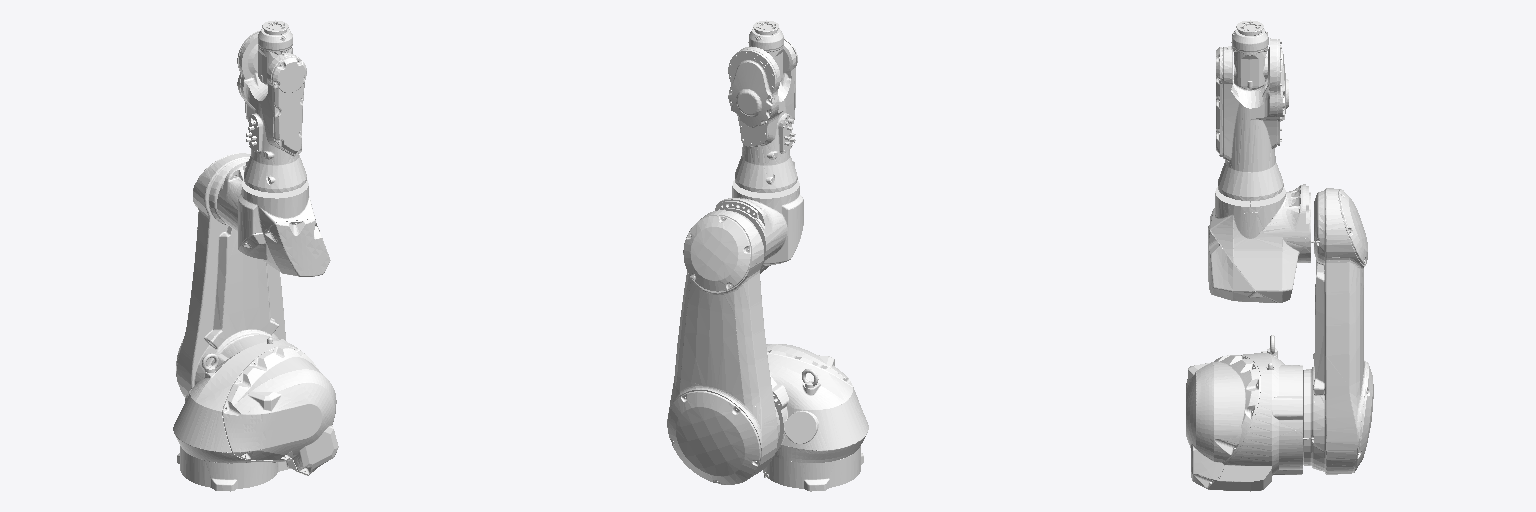
robot.urdf — stab:
<?xml version="1.0" encoding="utf-8"?>
<!-- This URDF was automatically created by SolidWorks to URDF Exporter! Originally created by [author] ([email redacted]) 
     Commit Version: 1.5.1-0-g916b5db  Build Version: 1.5.7152.31018
     For more information, please see http://wiki.ros.org/sw_urdf_exporter -->
<robot
  name="stab">
  <link
    name="base_link">
    <inertial>
      <origin
        xyz="-0.267622237083787 0.0200000000000051 0.200000000000011"
        rpy="0 0 0" />
      <mass
        value="4.39348226818734E-05" />
      <inertia
        ixx="3.28704519934978E-11"
        ixy="-8.15804703511327E-22"
        ixz="1.61286938235907E-21"
        iyy="3.30462552559842E-10"
        iyz="-3.68952400699453E-27"
        izz="3.30462552559842E-10" />
    </inertial>
    <visual>
      <origin
        xyz="0 0 0"
        rpy="0 0 0" />
      <geometry>
        <mesh
          filename="package://robot_description/meshes/base_link.STL" />
      </geometry>
      <material
        name="">
        <color
          rgba="1 1 1 1" />
      </material>
    </visual>
    <collision>
      <origin
        xyz="0 0 0"
        rpy="0 0 0" />
      <geometry>
        <mesh
          filename="package://robot_description/meshes/base_link.STL" />
      </geometry>
    </collision>
  </link>
  <link
    name="Link1">
    <inertial>
      <origin
        xyz="0.078312 0.0074766 0.3645"
        rpy="0 0 0" />
      <mass
        value="0.013314" />
      <inertia
        ixx="6.1721E-07"
        ixy="4.3741E-08"
        ixz="-2.209E-08"
        iyy="4.6562E-07"
        iyz="8.2426E-08"
        izz="6.8481E-07" />
    </inertial>
    <visual>
      <origin
        xyz="0 0 0"
        rpy="0 0 0" />
      <geometry>
        <mesh
          filename="package://robot_description/meshes/Link1.STL" />
      </geometry>
      <material
        name="">
        <color
          rgba="1 1 1 1" />
      </material>
    </visual>
    <collision>
      <origin
        xyz="0 0 0"
        rpy="0 0 0" />
      <geometry>
        <mesh
          filename="package://robot_description/meshes/Link1.STL" />
      </geometry>
    </collision>
  </link>
  <joint
    name="joint1"
    type="revolute">
    <origin
      xyz="0 0 0.347"
      rpy="0 0 0" />
    <parent
      link="base_link" />
    <child
      link="Link1" />
    <axis
      xyz="0 0 -1" />
    <limit
      lower="-3.14"
      upper="3.14"
      effort="100000"
      velocity="2" />
  </joint>
  <link
    name="Link2">
    <inertial>
      <origin
        xyz="746890000000 988550000000 175200000000"
        rpy="0 0 0" />
      <mass
        value="1.0511E+23" />
      <inertia
        ixx="5.5892E+45"
        ixy="-4.0943E+45"
        ixz="-7.2564E+44"
        iyy="3.2636E+45"
        iyz="-9.6042E+44"
        izz="8.5124E+45" />
    </inertial>
    <visual>
      <origin
        xyz="0 0 0"
        rpy="0 0 0" />
      <geometry>
        <mesh
          filename="package://robot_description/meshes/Link2.STL" />
      </geometry>
      <material
        name="">
        <color
          rgba="1 1 1 1" />
      </material>
    </visual>
    <collision>
      <origin
        xyz="0 0 0"
        rpy="0 0 0" />
      <geometry>
        <mesh
          filename="package://robot_description/meshes/Link2.STL" />
      </geometry>
    </collision>
  </link>
  <joint
    name="joint2"
    type="revolute">
    <origin
      xyz="0.24994 0.239 0.29844"
      rpy="-1.5708 0 0" />
    <parent
      link="Link1" />
    <child
      link="Link2" />
    <axis
      xyz="0 0 -1" />
    <limit
      lower="-2.0071"
      upper="2.094"
      effort="100000"
      velocity="2" />
  </joint>
  <link
    name="Link3">
    <inertial>
      <origin
        xyz="0.0295766895166405 -0.0440500878929433 0.244531620234894"
        rpy="0 0 0" />
      <mass
        value="54.8497239391138" />
      <inertia
        ixx="1.57769910645969"
        ixy="0.224580870519169"
        ixz="-0.0606303870690732"
        iyy="1.27119892970626"
        iyz="0.0789769466616716"
        izz="1.28753475738862" />
    </inertial>
    <visual>
      <origin
        xyz="0 0 0"
        rpy="0 0 0" />
      <geometry>
        <mesh
          filename="package://robot_description/meshes/Link3.STL" />
      </geometry>
      <material
        name="">
        <color
          rgba="1 1 1 1" />
      </material>
    </visual>
    <collision>
      <origin
        xyz="0 0 0"
        rpy="0 0 0" />
      <geometry>
        <mesh
          filename="package://robot_description/meshes/Link3.STL" />
      </geometry>
    </collision>
  </link>
  <joint
    name="joint3"
    type="revolute">
    <origin
      xyz="8.587E-05 -0.95252 0.04995"
      rpy="-3.1416 0 0" />
    <parent
      link="Link2" />
    <child
      link="Link3" />
    <axis
      xyz="0 0 -1" />
    <limit
      lower="-2.443"
      upper="2.53"
      effort="100000"
      velocity="2" />
  </joint>
  <link
    name="Link4">
    <inertial>
      <origin
        xyz="-0.0017742167367687 0.00510255610352519 0.324104531535401"
        rpy="0 0 0" />
      <mass
        value="32.6033860752865" />
      <inertia
        ixx="1.48753181974762"
        ixy="-0.000551665245867233"
        ixz="0.00197255156966189"
        iyy="1.35887057122941"
        iyz="-0.0549721505149915"
        izz="0.353593775329007" />
    </inertial>
    <visual>
      <origin
        xyz="0 0 0"
        rpy="0 0 0" />
      <geometry>
        <mesh
          filename="package://robot_description/meshes/Link4.STL" />
      </geometry>
      <material
        name="">
        <color
          rgba="1 1 1 1" />
      </material>
    </visual>
    <collision>
      <origin
        xyz="0 0 0"
        rpy="0 0 0" />
      <geometry>
        <mesh
          filename="package://robot_description/meshes/Link4.STL" />
      </geometry>
    </collision>
  </link>
  <joint
    name="joint4"
    type="revolute">
    <origin
      xyz="-0.00011402 0.17664 0.28895"
      rpy="-1.5708 0 0" />
    <parent
      link="Link3" />
    <child
      link="Link4" />
    <axis
      xyz="0 0 -1" />
    <limit
      lower="-4.7123"
      upper="4.7123"
      effort="100000"
      velocity="2" />
  </joint>
  <link
    name="Link5">
    <inertial>
      <origin
        xyz="2.26929819879818E-05 -0.0493393380570577 -0.0797818987385228"
        rpy="0 0 0" />
      <mass
        value="5.30907305737881" />
      <inertia
        ixx="0.040378596382921"
        ixy="6.86120279421567E-06"
        ixz="3.92870699069878E-06"
        iyy="0.0164747799847275"
        iyz="-0.000153178723827858"
        izz="0.0399298921183855" />
    </inertial>
    <visual>
      <origin
        xyz="0 0 0"
        rpy="0 0 0" />
      <geometry>
        <mesh
          filename="package://robot_description/meshes/Link5.STL" />
      </geometry>
      <material
        name="">
        <color
          rgba="1 1 1 1" />
      </material>
    </visual>
    <collision>
      <origin
        xyz="0 0 0"
        rpy="0 0 0" />
      <geometry>
        <mesh
          filename="package://robot_description/meshes/Link5.STL" />
      </geometry>
    </collision>
  </link>
  <joint
    name="joint5"
    type="revolute">
    <origin
      xyz="8.9662E-05 0.0785 0.62217"
      rpy="-1.5708 0 0" />
    <parent
      link="Link4" />
    <child
      link="Link5" />
    <axis
      xyz="0 0 -1" />
    <limit
      lower="-2.094"
      upper="2.094"
      effort="100000"
      velocity="2" />
  </joint>
  <link
    name="Link6">
    <inertial>
      <origin
        xyz="0.00025833309019499 -2.06849144375465E-08 -0.0126692850546037"
        rpy="0 0 0" />
      <mass
        value="0.205963576921912" />
      <inertia
        ixx="0.000189932098659272"
        ixy="2.10613190161523E-09"
        ixz="1.82397539372542E-07"
        iyy="0.000188825315775277"
        iyz="2.01174206869031E-11"
        izz="0.000359577566804308" />
    </inertial>
    <visual>
      <origin
        xyz="0 0 0"
        rpy="0 0 0" />
      <geometry>
        <mesh
          filename="package://robot_description/meshes/Link6.STL" />
      </geometry>
      <material
        name="">
        <color
          rgba="1 1 1 1" />
      </material>
    </visual>
    <collision>
      <origin
        xyz="0 0 0"
        rpy="0 0 0" />
      <geometry>
        <mesh
          filename="package://robot_description/meshes/Link6.STL" />
      </geometry>
    </collision>
  </link>
  <joint
    name="joint6"
    type="revolute">
    <origin
      xyz="-0.00036826 -0.20708 -0.0805"
      rpy="1.5708 0 0" />
    <parent
      link="Link5" />
    <child
      link="Link6" />
    <axis
      xyz="0 0 -1" />
    <limit
      lower="-4.7123"
      upper="4.7123"
      effort="10000"
      velocity="2" />
  </joint>
</robot>

--- What the picture shows (computed from the rendered views, not written in the file) ---
Views: 3 orthographic renders of the robot side by side, from view 1: azimuth 30°, elevation 25°; view 2: azimuth 150°, elevation 25°; view 3: azimuth 270°, elevation 25°.
Robot: stab — 7 links, 6 joints (6 revolute); root link base_link; default pose: every joint at zero.
Visible links, largest first — view 1: Link1, Link2, Link4, Link3, Link5; view 2: Link2, Link1, Link4, Link3, Link5; view 3: Link2, Link1, Link3, Link4, Link5.
Link boxes in pixels (bbox=[...]): Link1: bbox=[173, 335, 338, 491]; Link2: bbox=[176, 153, 285, 397]; Link4: bbox=[237, 30, 306, 192]; Link3: bbox=[217, 162, 330, 276]; Link5: bbox=[258, 28, 292, 85]; Link2: bbox=[667, 210, 779, 484]; Link1: bbox=[763, 344, 868, 491]; Link4: bbox=[728, 38, 797, 192]; Link3: bbox=[715, 180, 803, 273]; Link5: bbox=[748, 28, 783, 79]; Link2: bbox=[1303, 188, 1373, 474]; Link1: bbox=[1186, 335, 1308, 491]; Link3: bbox=[1208, 184, 1314, 302]; Link4: bbox=[1216, 38, 1288, 202]; Link5: bbox=[1231, 29, 1268, 90].
Bounding box of the posed robot: 0.7828 × 0.8484 × 2.28 m (x, y, z).
6 mesh visuals loaded from 7 distinct referenced files (6 binary STL); not drawn: 1 (reference not matched to a file when rendering).